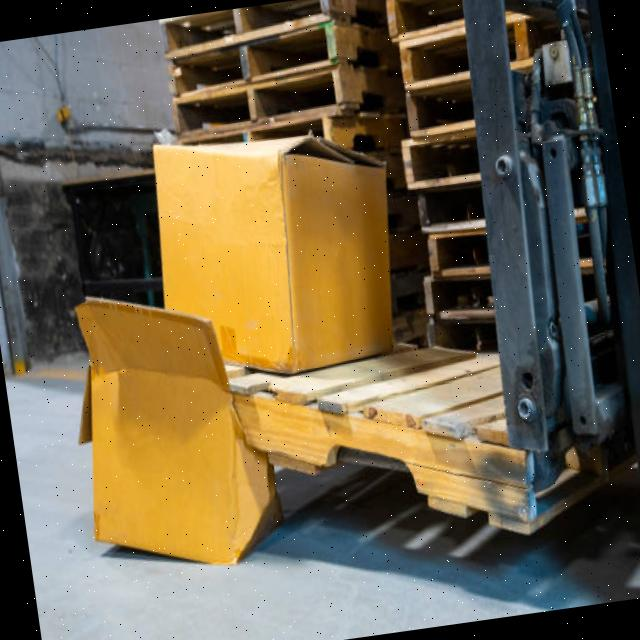Wooden-Pallets: (232, 378, 532, 547), (161, 17, 349, 109)
